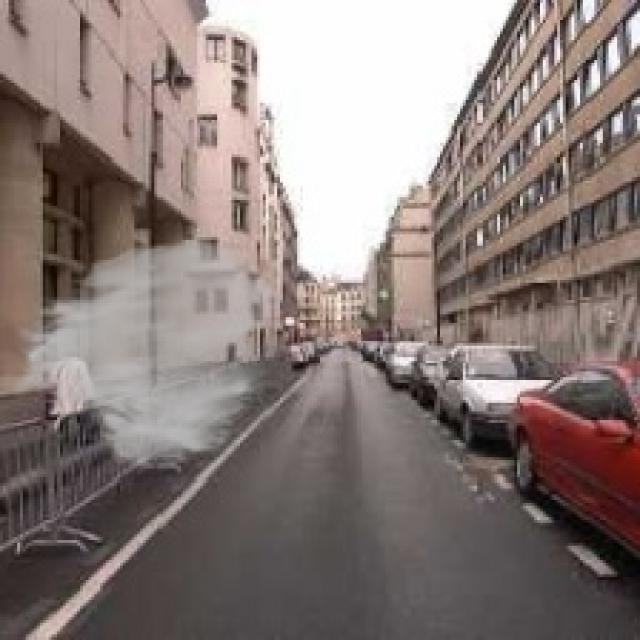smoke: (6, 234, 280, 472)
